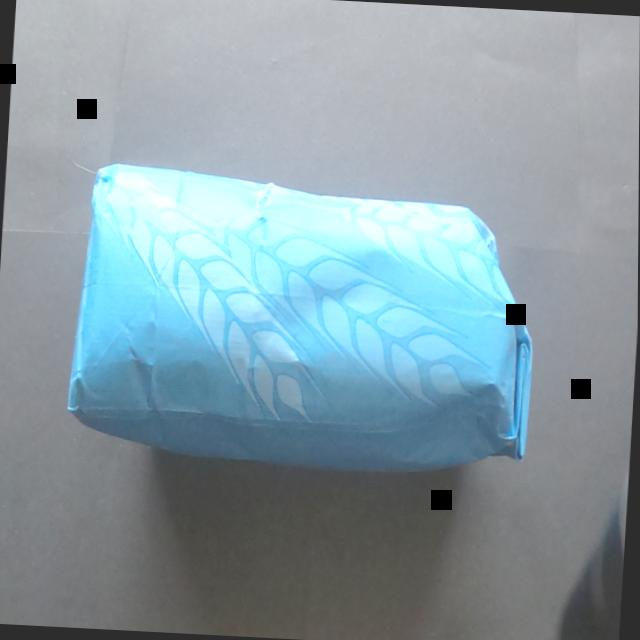Flour: (34, 114, 565, 498)
